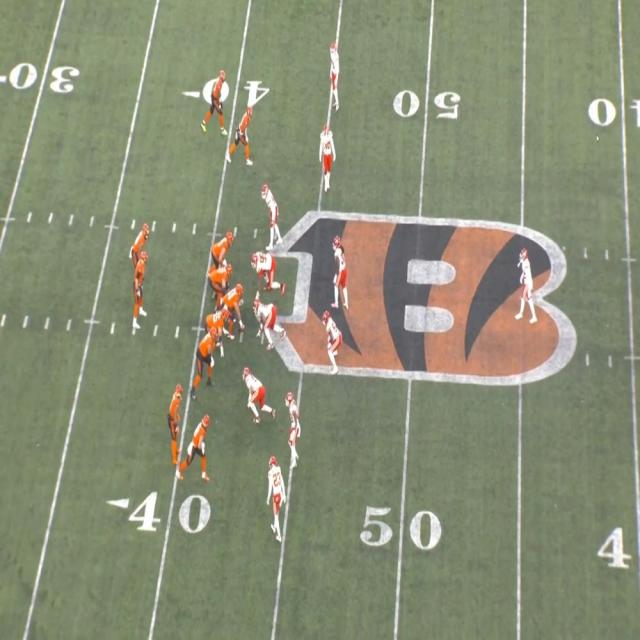center: (225, 285, 249, 325)
db: (280, 391, 300, 465), (319, 121, 338, 190), (518, 249, 536, 318), (267, 459, 287, 513), (326, 43, 342, 105)
lb: (321, 309, 342, 362), (332, 243, 348, 309)
qb: (133, 260, 147, 327)
skill: (187, 414, 212, 481), (205, 72, 232, 130), (233, 110, 254, 165), (166, 384, 183, 438), (133, 224, 149, 255)
